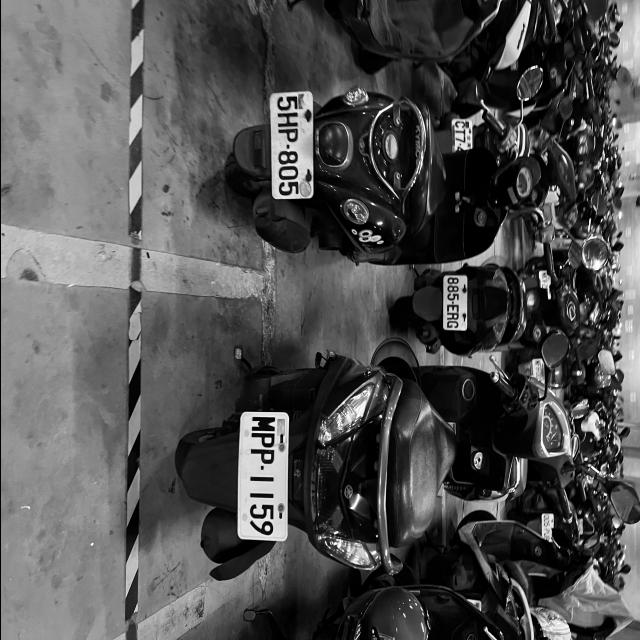-: (284, 144, 290, 150), (259, 464, 264, 470), (451, 301, 454, 304), (458, 144, 460, 146)
0: (278, 165, 298, 181)
1: (248, 476, 274, 484), (248, 492, 274, 499)
5: (249, 503, 273, 520), (277, 180, 299, 197), (276, 95, 298, 111), (446, 292, 458, 300), (542, 523, 548, 527)
7: (454, 136, 464, 142)
8: (277, 150, 297, 164), (446, 286, 458, 292), (446, 278, 458, 284)
9: (248, 520, 275, 536)
C: (454, 122, 464, 128)
E: (446, 304, 458, 312)
G: (446, 321, 458, 328)
H: (276, 111, 298, 128)
M: (250, 417, 274, 432)
P: (249, 449, 275, 464), (250, 432, 274, 448), (278, 128, 298, 144)
R: (446, 313, 458, 320)
T: (454, 128, 465, 136)
plate: (238, 416, 286, 536), (272, 92, 310, 198), (442, 275, 467, 330)
